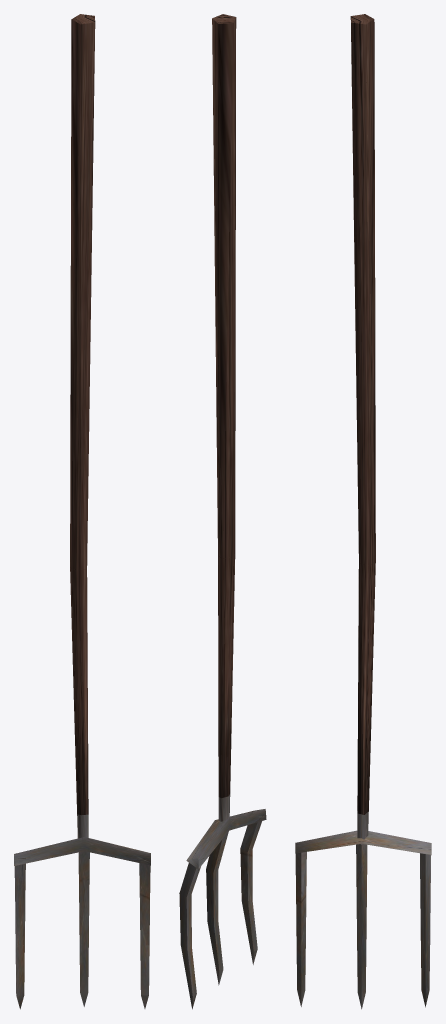
Rendered from pitchfork.fbx.
The picture shows the model from 3 angles, left to right: view 1: azimuth 90°, elevation 25°; view 2: azimuth 150°, elevation 25°; view 3: azimuth 270°, elevation 25°; orthographic projection. The views are drawn at different scales.
Visible parts, largest first — view 1: handle, tines_1, tines_4, tines_2, tines_3; view 2: handle, tines_3, tines_4, tines_2, tines_1; view 3: handle, tines_1, tines_4, tines_2, tines_3.
Boxes of the visible parts, x1,y1,x2,y2 form: handle: (70,14,95,841); tines_1: (14,837,150,865); tines_4: (78,851,89,1006); tines_2: (139,863,150,1008); tines_3: (14,858,25,1009); handle: (212,14,236,821); tines_3: (179,857,203,1009); tines_4: (206,831,228,985); tines_2: (240,821,261,964); tines_1: (186,809,266,869); handle: (350,14,375,839); tines_1: (295,830,431,854); tines_4: (356,844,367,1009); tines_2: (295,852,306,1006); tines_3: (420,853,431,1007).
Bounding box in the file's own units: 18.28 × 548 × 68.58.
1 material, 1 textured.
